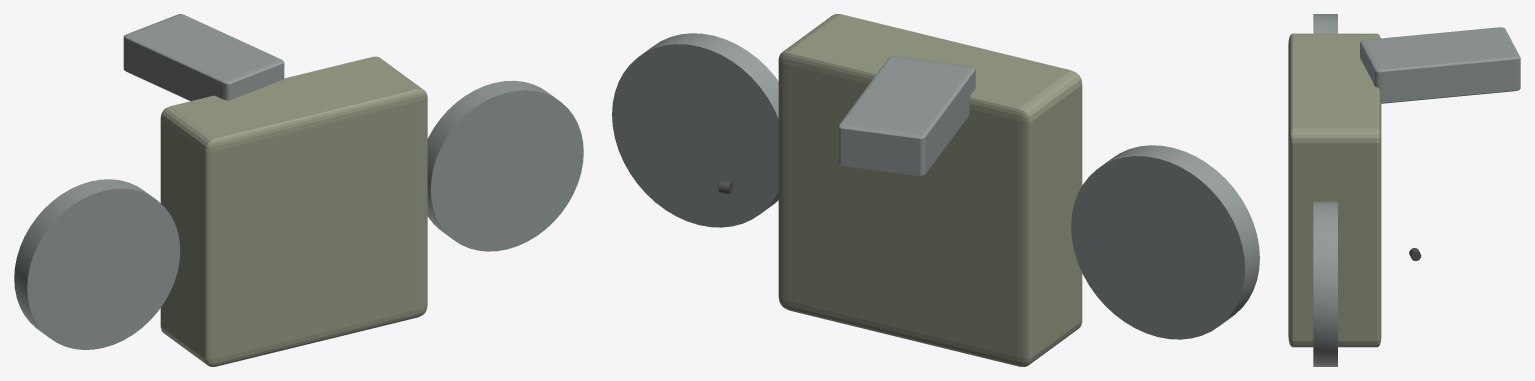
File: v-u28-vanguard-repair-drone-lod2.glb
3 views of the same model, side by side, from view 1: azimuth 30°, elevation 25°; view 2: azimuth 150°, elevation 25°; view 3: azimuth 270°, elevation 25° (orthographic). The views are drawn at different scales.
Parts seen in each view (by area): view 1: drone_core, drone_fan_2, drone_fan_0, service_claw_1; view 2: drone_core, drone_fan_2, drone_fan_0, service_claw_1; view 3: drone_core, service_claw_1, drone_fan_0, drone_fan_2.
Part boxes in pixels (x1=…): drone_core: x1=160, y1=56, x2=427, y2=366; drone_fan_2: x1=14, y1=179, x2=180, y2=349; drone_fan_0: x1=427, y1=80, x2=583, y2=251; service_claw_1: x1=123, y1=14, x2=284, y2=101; drone_core: x1=778, y1=14, x2=1082, y2=366; drone_fan_2: x1=1071, y1=145, x2=1259, y2=339; drone_fan_0: x1=612, y1=33, x2=778, y2=227; service_claw_1: x1=838, y1=56, x2=975, y2=176; drone_core: x1=1288, y1=33, x2=1381, y2=347; service_claw_1: x1=1360, y1=27, x2=1520, y2=103; drone_fan_0: x1=1313, y1=201, x2=1337, y2=366; drone_fan_2: x1=1313, y1=14, x2=1337, y2=33.
Size of what is drawn, in the model's own units: 4.64 by 1.96 by 1.76.
